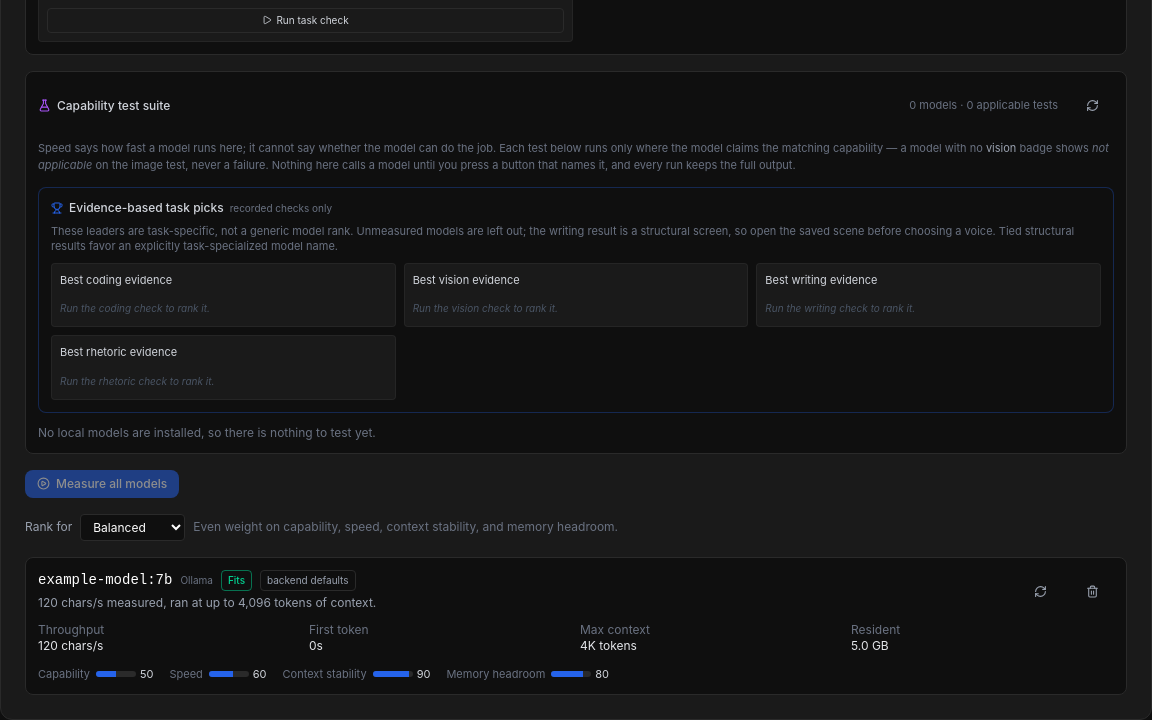
Test: LocalModelAssessments › drops a discarded measurement from local state and returns it to the unmeasured list
(page scrolled)
Click the button named "discard the measurement" at x=1092, y=592, box [1070, 570, 1114, 614]
(page scrolled)
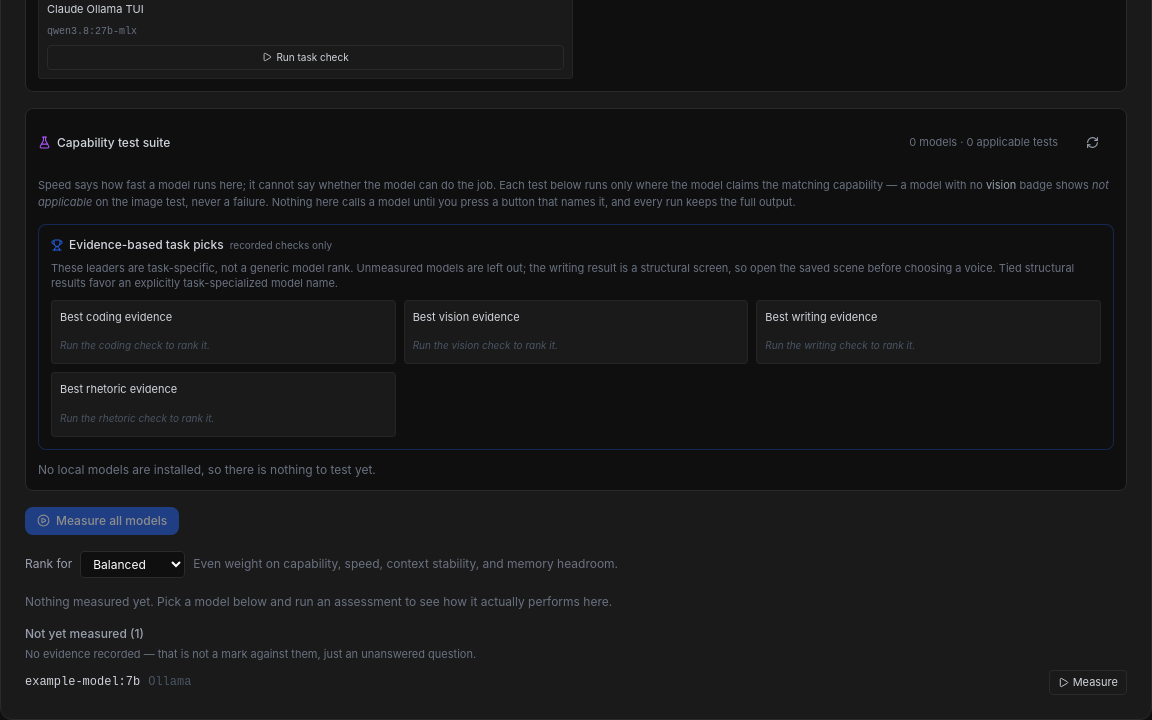
Expected: the heading "Not yet measured (1)" is shown, [25, 626, 144, 640]
